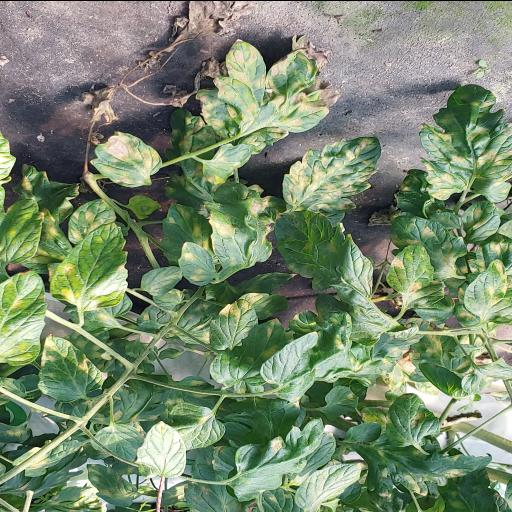disease_tomato: (212, 34, 342, 132), (419, 83, 512, 202), (275, 210, 373, 305), (282, 134, 382, 210), (349, 443, 492, 495), (49, 222, 129, 312), (323, 322, 420, 386), (208, 180, 273, 268), (390, 214, 468, 280), (36, 332, 104, 402), (0, 270, 48, 366), (88, 128, 162, 186), (260, 330, 319, 402), (0, 198, 44, 263), (466, 256, 510, 318), (209, 298, 258, 349), (382, 247, 434, 293), (196, 88, 240, 136), (460, 199, 501, 243), (178, 241, 215, 285)
